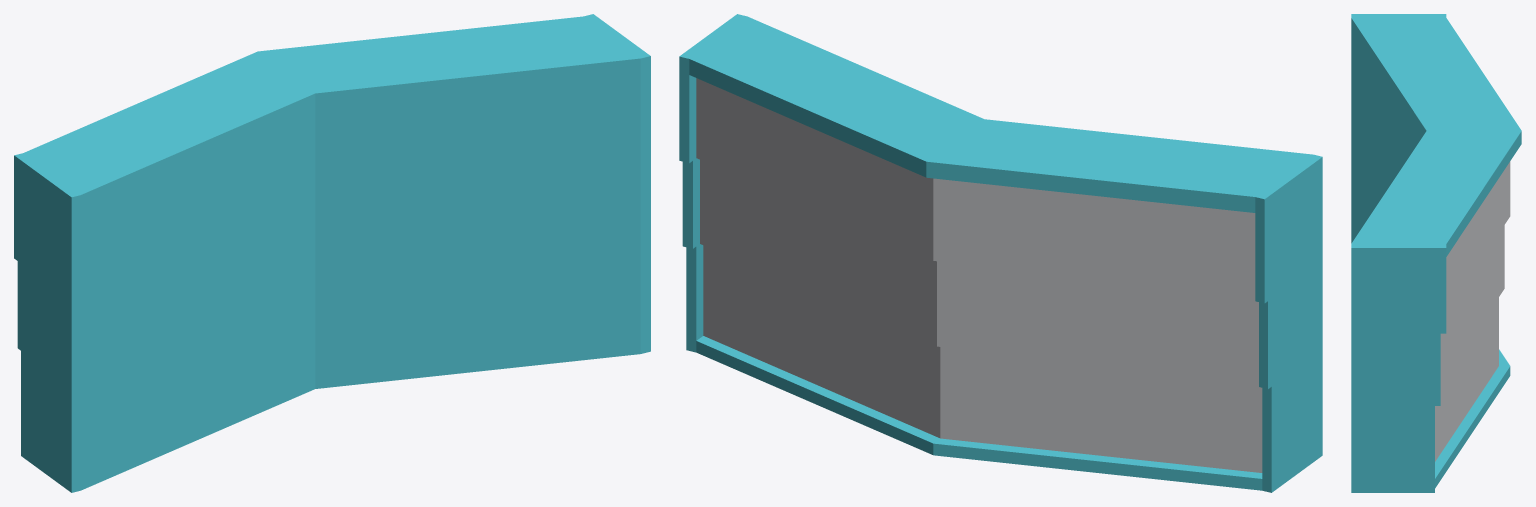
The model's file is Covid.fbx.
The picture shows the model from 3 angles, left to right: view 1: azimuth 30°, elevation 25°; view 2: azimuth 150°, elevation 25°; view 3: azimuth 270°, elevation 25°; orthographic projection. The views are drawn at different scales.
Visible parts, largest first — view 1: Covid; view 2: Covid; view 3: Covid.
Part boxes in pixels (x1,y1,x2,y2): Covid: [14, 14, 650, 492]; Covid: [679, 14, 1322, 492]; Covid: [1351, 14, 1521, 492].
Size of the model in its own units: 0.9722 by 0.4741 by 0.2993.
